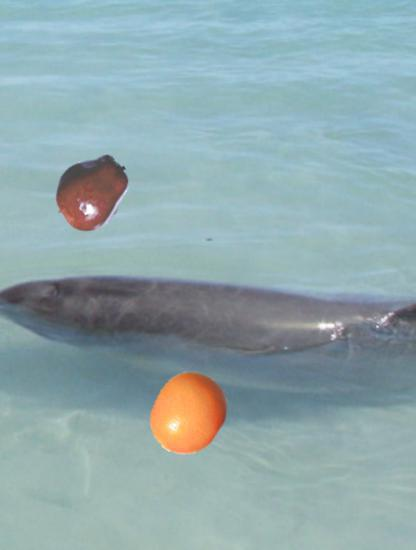Apple: (53, 152, 133, 232)
Grapefruit: (146, 371, 232, 457)
